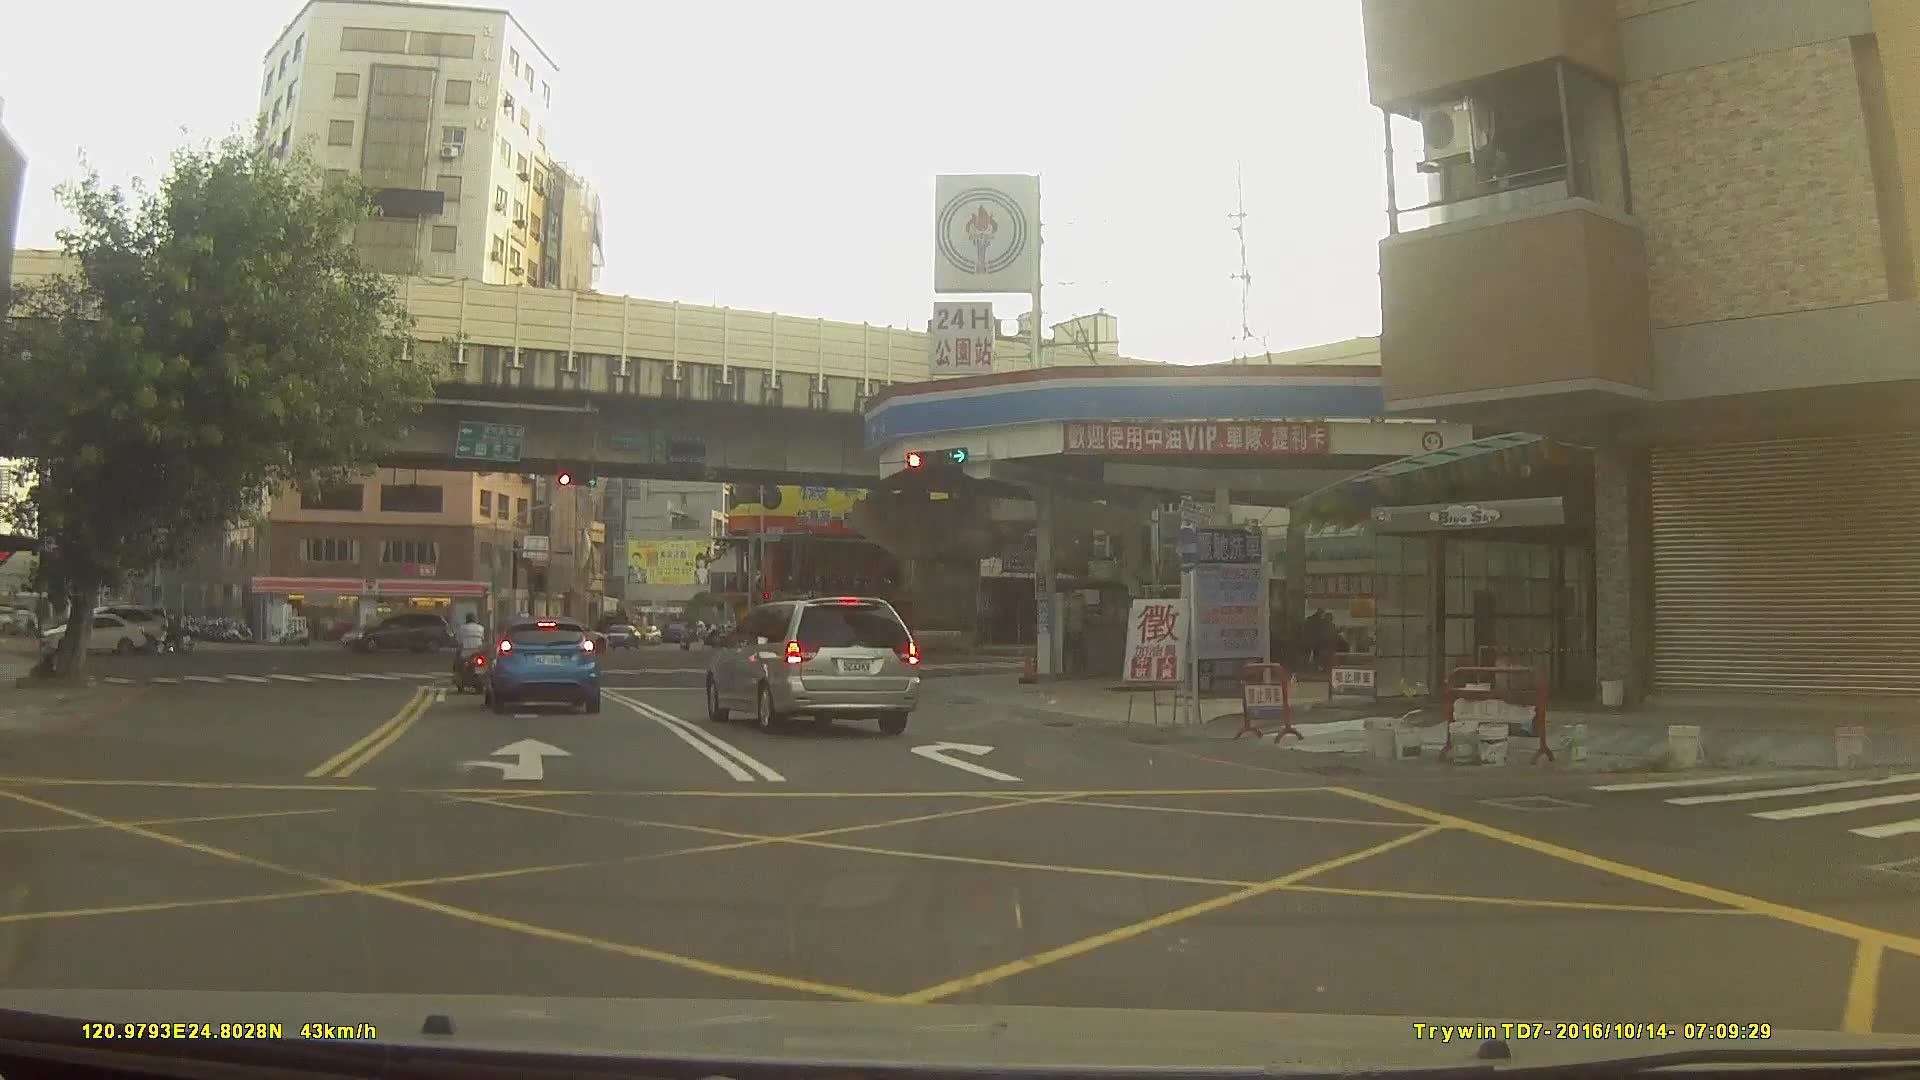rider: (453, 614, 493, 695), (157, 617, 185, 650)
vehicle: (706, 593, 920, 737), (483, 614, 602, 715), (340, 611, 450, 656), (40, 613, 145, 658), (527, 604, 607, 645)
